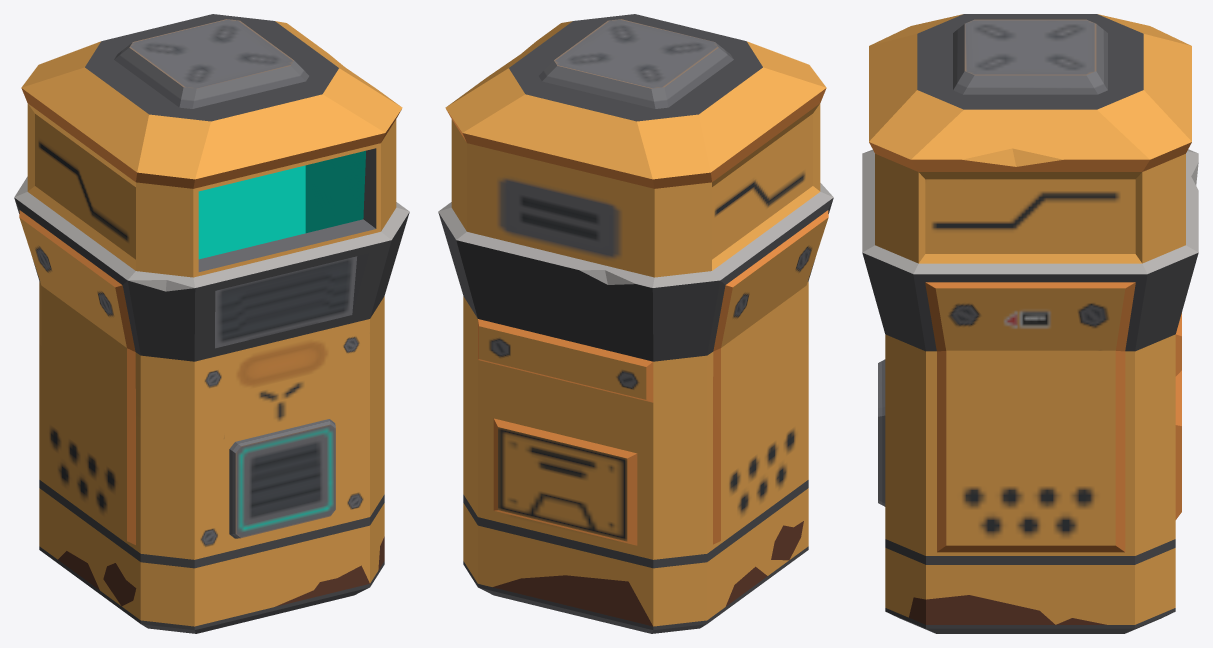
File: SM_Prop_Trash_Bin_02.fbx
3 renders of one model, left to right at view 1: azimuth 30°, elevation 25°; view 2: azimuth 150°, elevation 25°; view 3: azimuth 270°, elevation 25°, orthographic. The views are drawn at different scales.
Visible parts, largest first — view 1: SM_Prop_Trash_Bin_02; view 2: SM_Prop_Trash_Bin_02; view 3: SM_Prop_Trash_Bin_02.
Part boxes in pixels (<box>): SM_Prop_Trash_Bin_02: <box>14,14,409,633</box>; SM_Prop_Trash_Bin_02: <box>438,14,833,633</box>; SM_Prop_Trash_Bin_02: <box>862,14,1198,633</box>.
Bounding box in the file's own units: 84.44 × 145 × 83.05.
